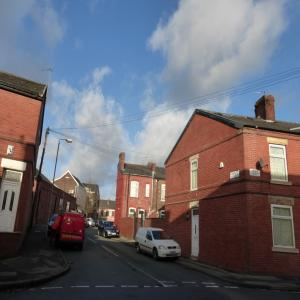Vehicle-registration-plate: (63, 234, 73, 238), (171, 252, 177, 256)
